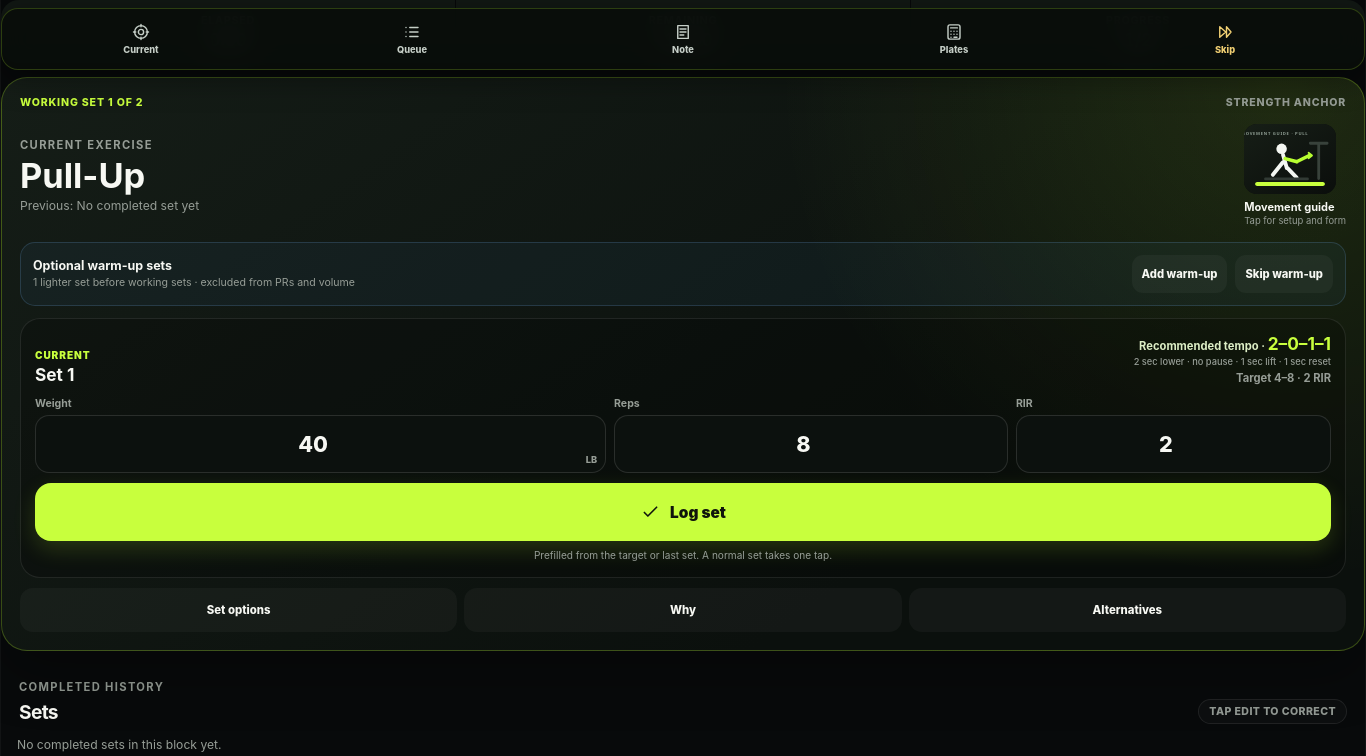
Test: Phase 8 active-workout navigation enhancement › skips one set from Set options without duplicating exercise skip controls
The image size is (1366, 756).
(page scrolled)
Step 1. Click the button "Set options" → {"x": 239, "y": 610}, box [20,588,457,632]
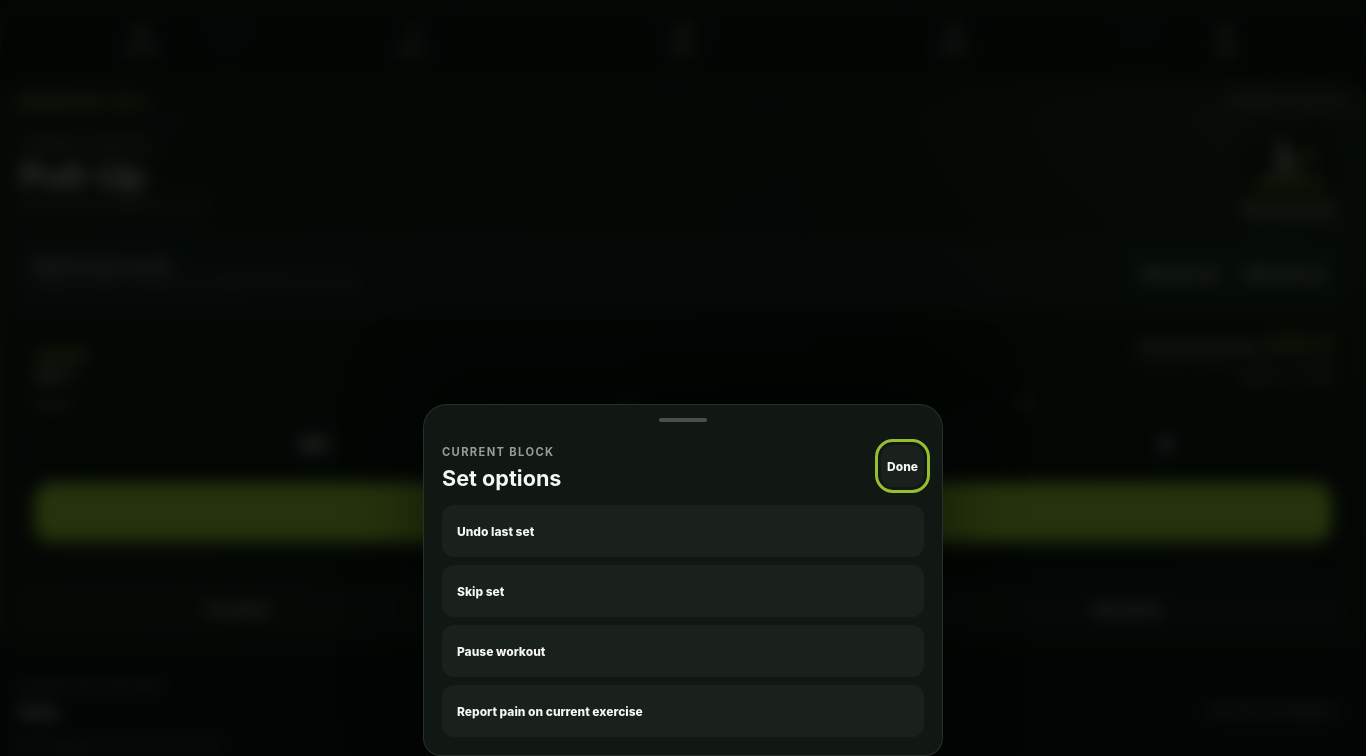
Step 2. Click the button "Skip set" → {"x": 481, "y": 591}, box [442,565,924,617]
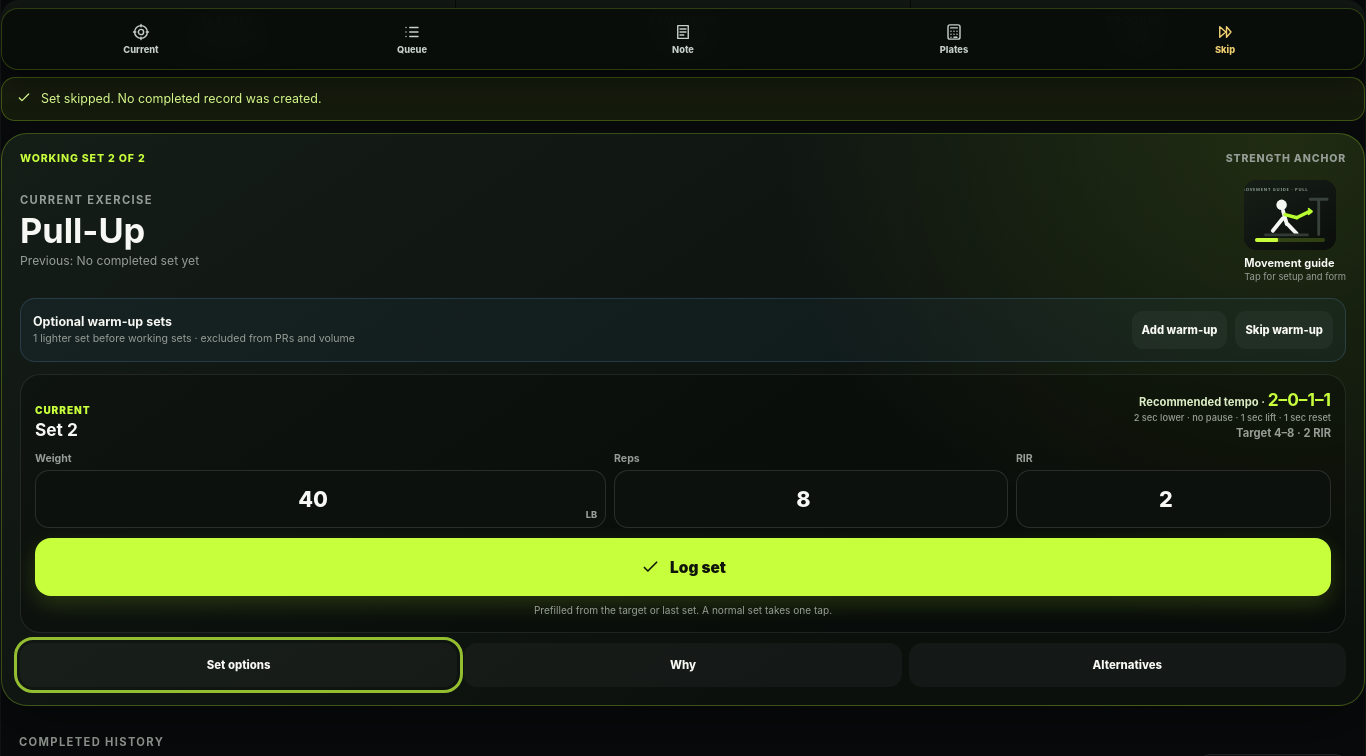
Check: the button "Set skipped. No completed record was created." is shown, box [1,77,1365,121]
